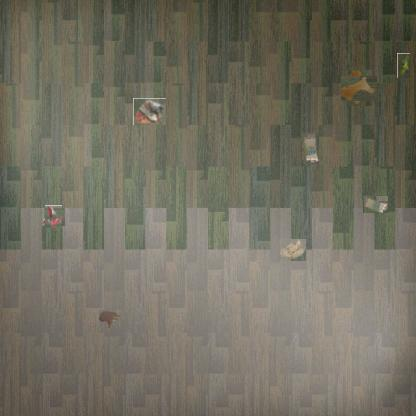dirty: (133, 98, 166, 125), (278, 239, 306, 261), (301, 132, 320, 164), (362, 195, 388, 213), (43, 207, 64, 227), (397, 53, 410, 78)
liquid: (344, 73, 375, 104), (99, 310, 121, 328)
